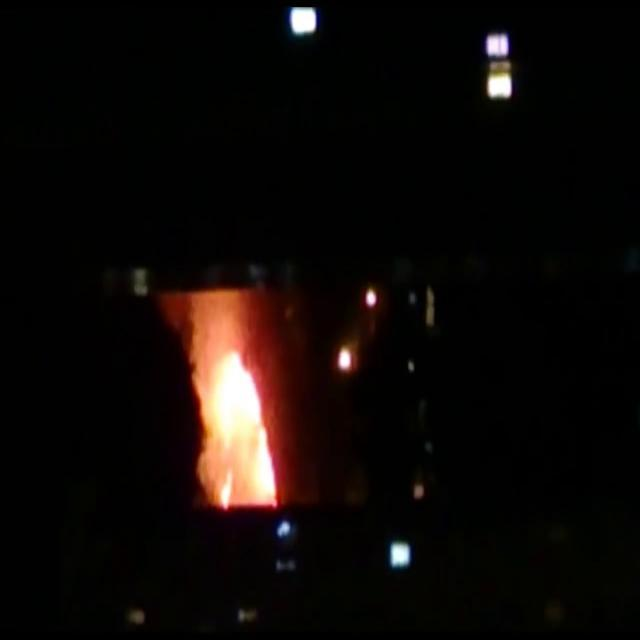Fire: (171, 286, 282, 507)
